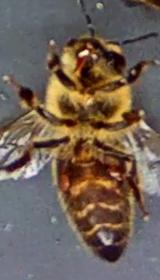varroa_mite: (98, 158, 136, 192), (47, 158, 73, 199)
